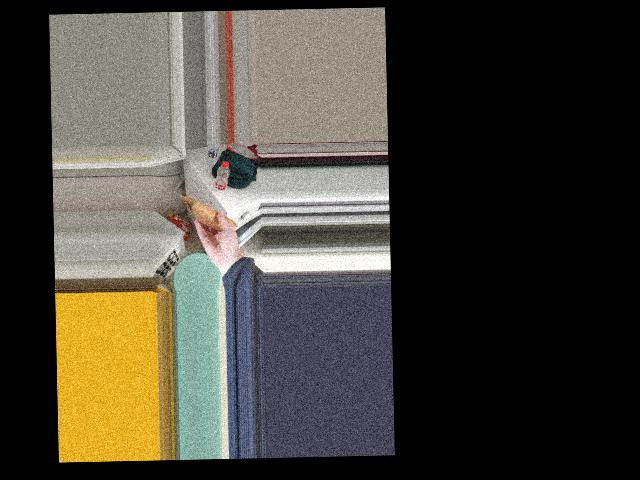sweet_potato: (194, 203, 230, 229)
